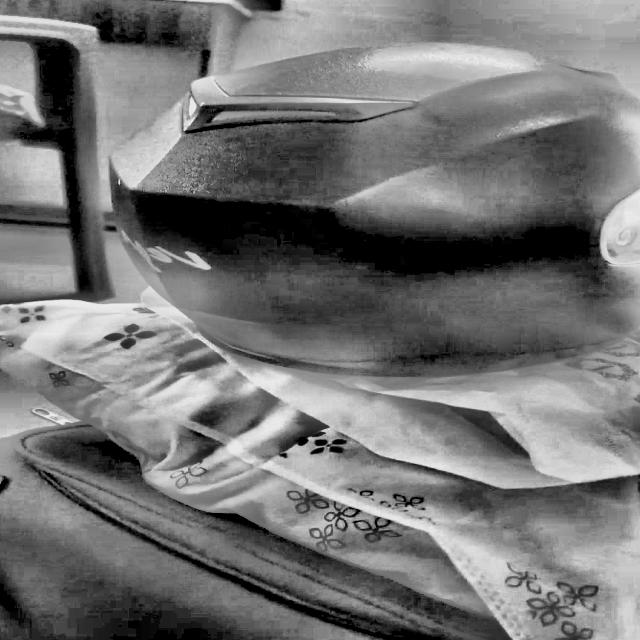Helmet: (119, 39, 640, 375)
